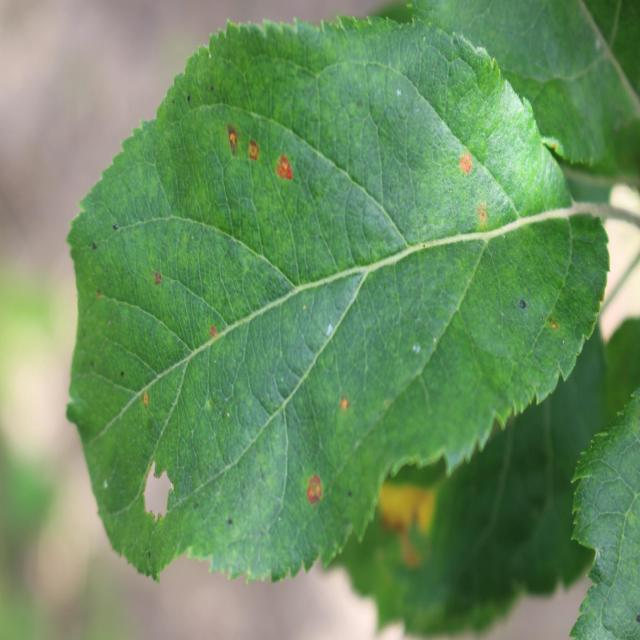Rust: (376, 470, 448, 583), (452, 142, 478, 186), (302, 477, 330, 517), (221, 119, 243, 160), (244, 126, 265, 166), (477, 201, 498, 241), (272, 155, 298, 184), (333, 390, 357, 415)
